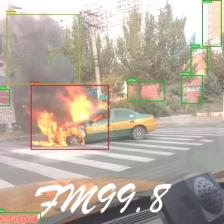fire: (30, 85, 109, 150)
smoke: (6, 14, 80, 84)
